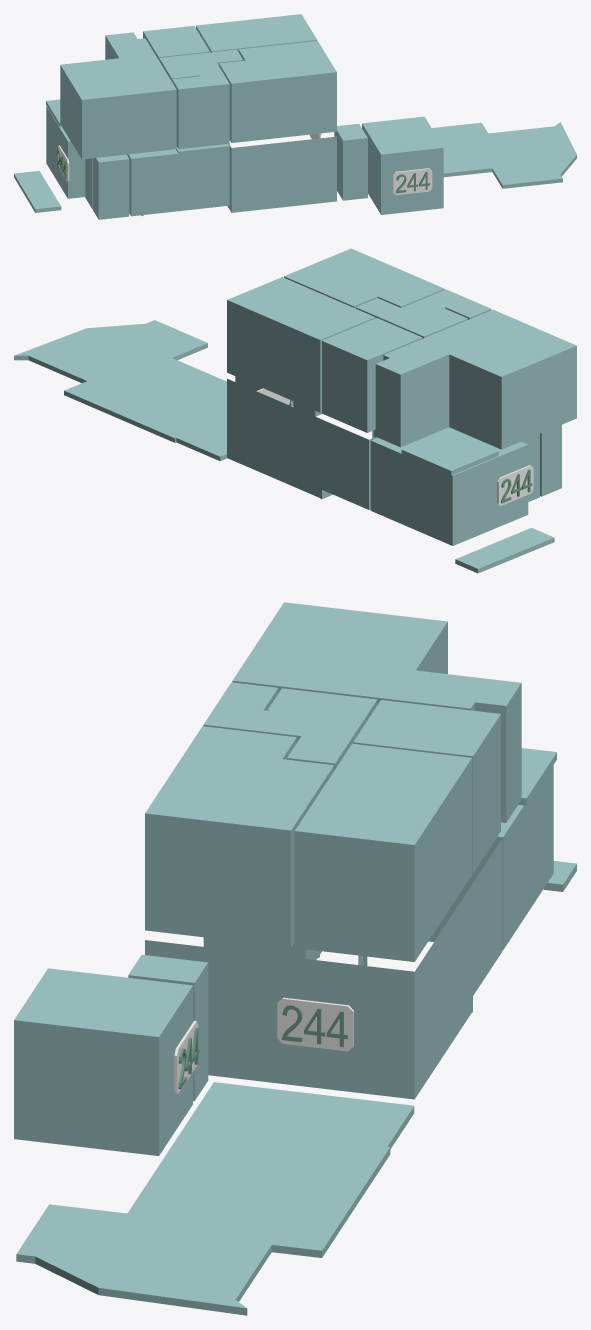
The picture shows the model from 3 angles, top to bottom: view 1: azimuth 30°, elevation 25°; view 2: azimuth 150°, elevation 25°; view 3: azimuth 270°, elevation 25°; orthographic projection. The views are drawn at different scales.
Visible parts, largest first — view 1: g_11, g_6, g_1, g_12, g_2, g_5, g_10, g_7, g_3, g_4, g_0, g_9 (+3 smaller); view 2: g_11, g_12, g_7, g_1, g_0, g_9, g_6, g_14, g_8, g_13, g_3, g_10 (+2 smaller); view 3: g_12, g_1, g_7, g_6, g_5, g_11, g_9, g_0, g_8, g_4, g_26, g_10 (+2 smaller).
Boxes of the visible parts, box(x1,y1,x2,y2) form: g_11: box(60, 32, 176, 159); g_6: box(219, 40, 336, 142); g_1: box(227, 136, 336, 212); g_12: box(432, 122, 576, 188); g_2: box(85, 144, 229, 216); g_5: box(362, 116, 443, 214); g_10: box(172, 72, 229, 149); g_7: box(196, 14, 317, 52); g_3: box(93, 154, 129, 219); g_4: box(334, 123, 367, 200); g_0: box(46, 106, 85, 198); g_9: box(143, 26, 209, 60); g_11: box(375, 309, 576, 449); g_12: box(14, 320, 226, 461); g_7: box(227, 277, 375, 412); g_1: box(227, 378, 377, 509); g_0: box(370, 427, 528, 545); g_9: box(322, 318, 422, 432); g_6: box(284, 248, 444, 308); g_14: box(401, 430, 498, 475); g_8: box(355, 298, 467, 338); g_13: box(455, 527, 554, 573); g_3: box(540, 425, 561, 496); g_10: box(421, 289, 491, 319); g_12: box(16, 1082, 414, 1315); g_1: box(145, 839, 502, 1099); g_7: box(294, 743, 472, 961); g_6: box(145, 726, 333, 947); g_5: box(14, 968, 192, 1155); g_11: box(232, 602, 521, 822); g_9: box(353, 700, 500, 873); g_0: box(428, 765, 553, 950); g_8: box(257, 688, 377, 770); g_4: box(128, 954, 208, 1100); g_26: box(277, 997, 353, 1051); g_10: box(203, 682, 278, 732).
Size of the model in its own units: 20.31 by 5.35 by 10.4.
